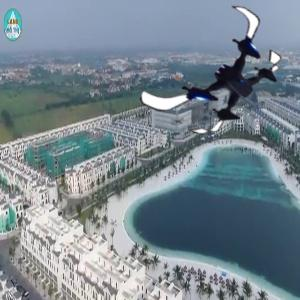drone: (155, 3, 296, 144)
